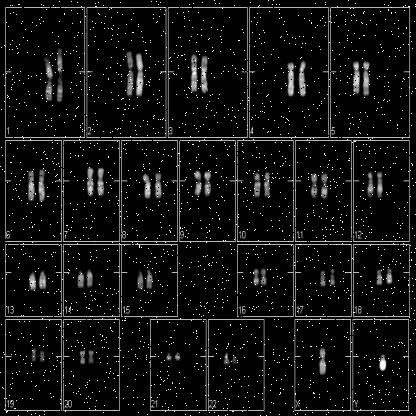1: (54, 47, 68, 102), (42, 54, 55, 102)
10: (252, 171, 263, 199), (261, 170, 272, 198)
11: (320, 171, 329, 199), (310, 172, 318, 200)
12: (374, 170, 386, 198), (364, 170, 375, 198)
13: (28, 270, 36, 292), (38, 270, 46, 292)
14: (84, 268, 94, 289), (75, 270, 85, 290)
15: (136, 268, 144, 290), (145, 268, 153, 290)
16: (252, 267, 260, 287), (260, 266, 268, 286)
17: (329, 266, 337, 286), (319, 270, 326, 288)
18: (385, 266, 393, 286), (375, 267, 382, 287)
19: (29, 346, 37, 364), (38, 348, 45, 366)
2: (134, 50, 144, 100), (124, 50, 134, 98)
20: (77, 348, 86, 365), (88, 350, 96, 364)
21: (174, 349, 183, 362), (164, 350, 172, 363)
22: (222, 351, 231, 366), (232, 352, 238, 367)
3: (198, 54, 208, 94), (189, 54, 198, 94)
4: (284, 60, 296, 98), (298, 59, 308, 97)
5: (361, 58, 371, 96), (352, 59, 362, 96)
6: (26, 168, 36, 204), (37, 166, 46, 202)
7: (94, 166, 106, 196), (83, 166, 94, 197)
8: (140, 172, 152, 201), (152, 170, 164, 199)
9: (202, 169, 212, 197), (193, 170, 202, 198)
X: (318, 346, 328, 376)
Y: (378, 352, 388, 374)
